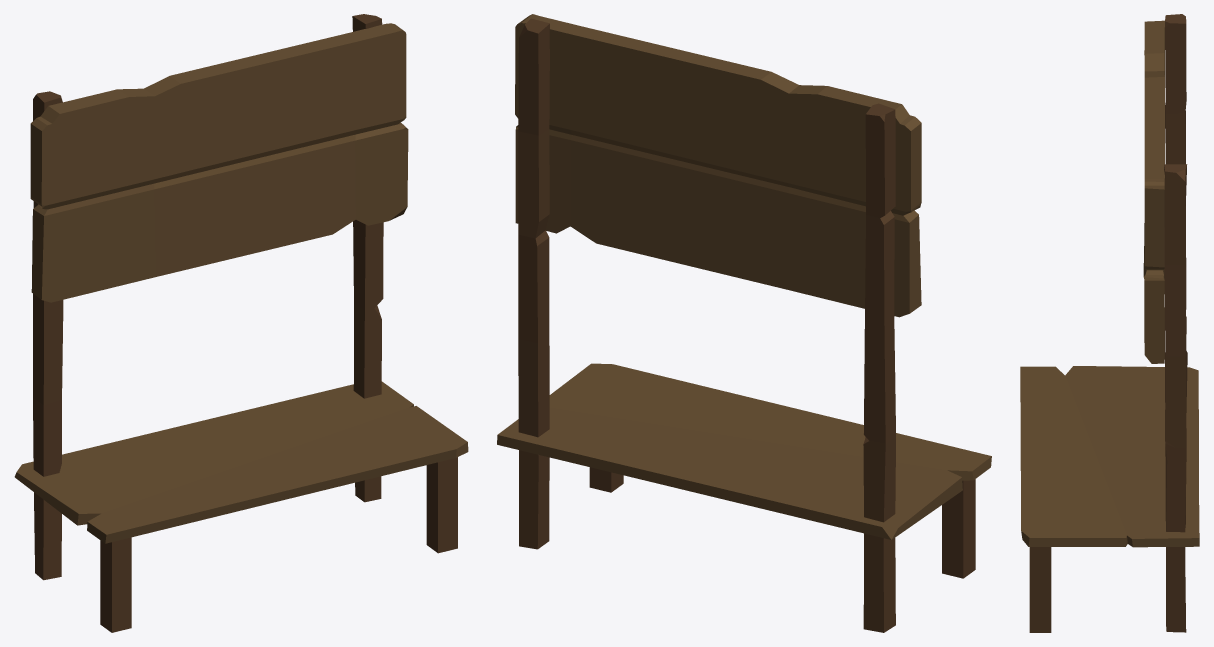
The model's file is Booth.fbx.
The picture shows the model from 3 angles, left to right: view 1: azimuth 30°, elevation 25°; view 2: azimuth 150°, elevation 25°; view 3: azimuth 270°, elevation 25°; orthographic projection. The views are drawn at different scales.
Visible parts, largest first — view 1: Booth; view 2: Booth; view 3: Booth.
Part boxes in pixels (left/top/right/bottom): Booth: left=14, top=14, right=468, bottom=632; Booth: left=497, top=14, right=991, bottom=632; Booth: left=1020, top=14, right=1199, bottom=632.
Bounding box in the file's own units: 201 × 251 × 88.57.
